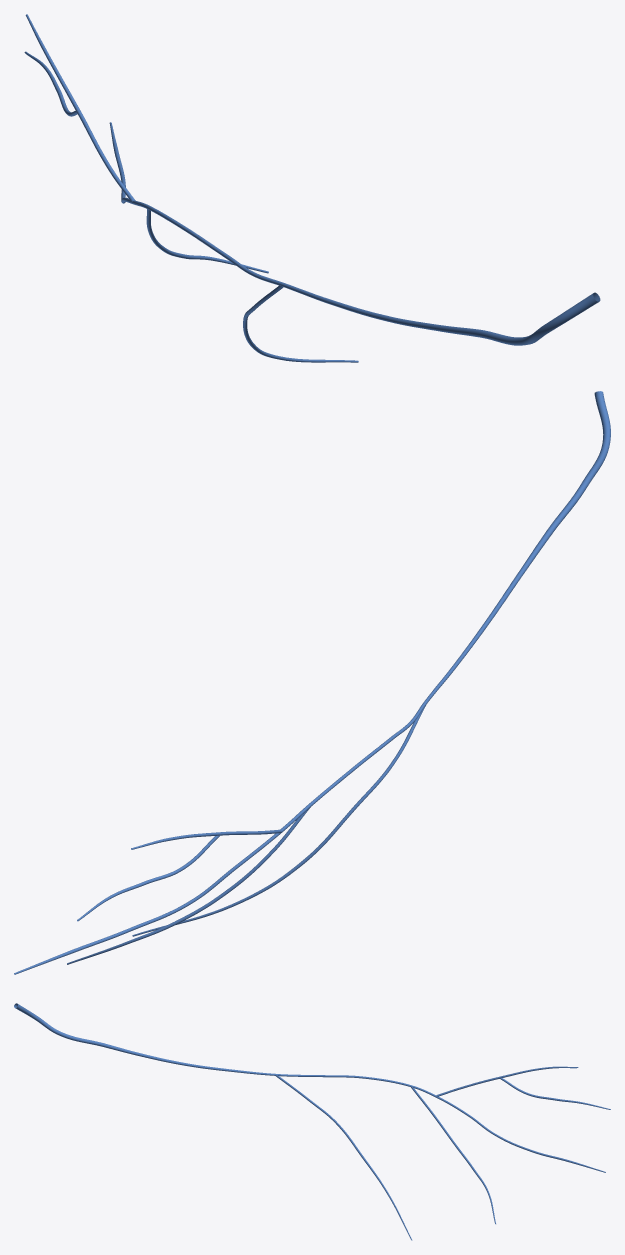
3 views of the same model, one above another, from view 1: azimuth 30°, elevation 25°; view 2: azimuth 150°, elevation 25°; view 3: azimuth 270°, elevation 25° (orthographic). The views are drawn at different scales.
Visible parts, largest first — view 1: 右侧胸外侧静脉; view 2: 右侧胸外侧静脉; view 3: 右侧胸外侧静脉.
Part boxes in pixels (box(x1,y1,x2,y2)): 右侧胸外侧静脉: box(24, 14, 600, 362); 右侧胸外侧静脉: box(14, 391, 610, 974); 右侧胸外侧静脉: box(14, 1003, 610, 1240).
Size of the model in its own units: 0.1066 by 0.1832 by 0.4994.
